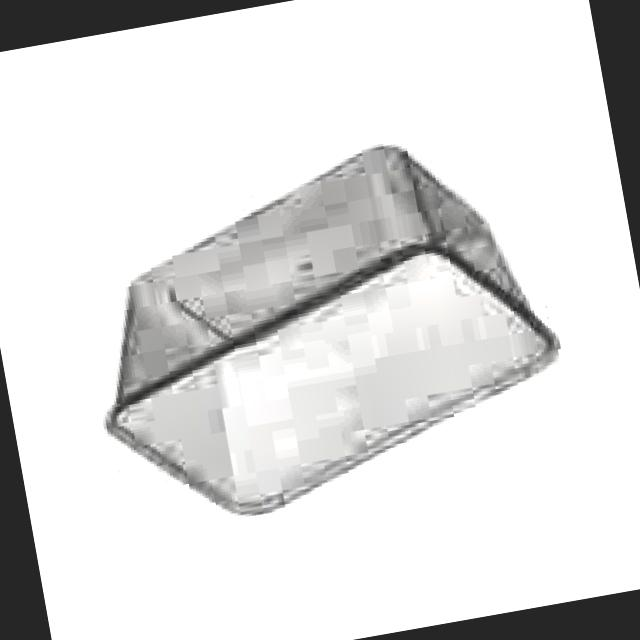plastic container: (108, 147, 556, 514)
